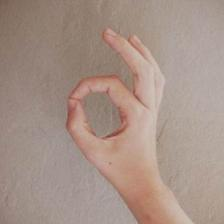five: (64, 27, 167, 184)
